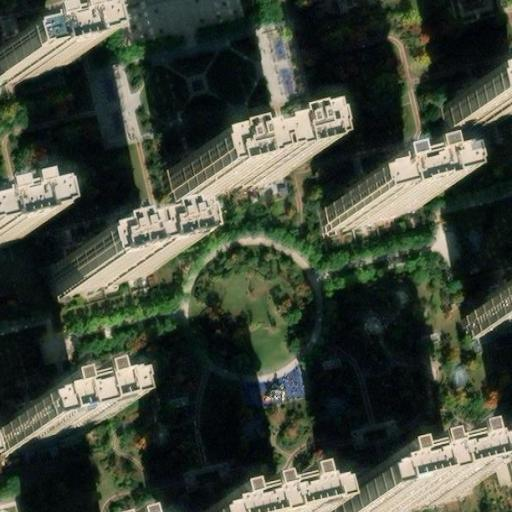building: (164, 139, 288, 202), (327, 465, 457, 512), (49, 245, 155, 301), (320, 182, 414, 239), (0, 402, 94, 457), (446, 76, 512, 133), (0, 35, 57, 84), (465, 291, 512, 340)
